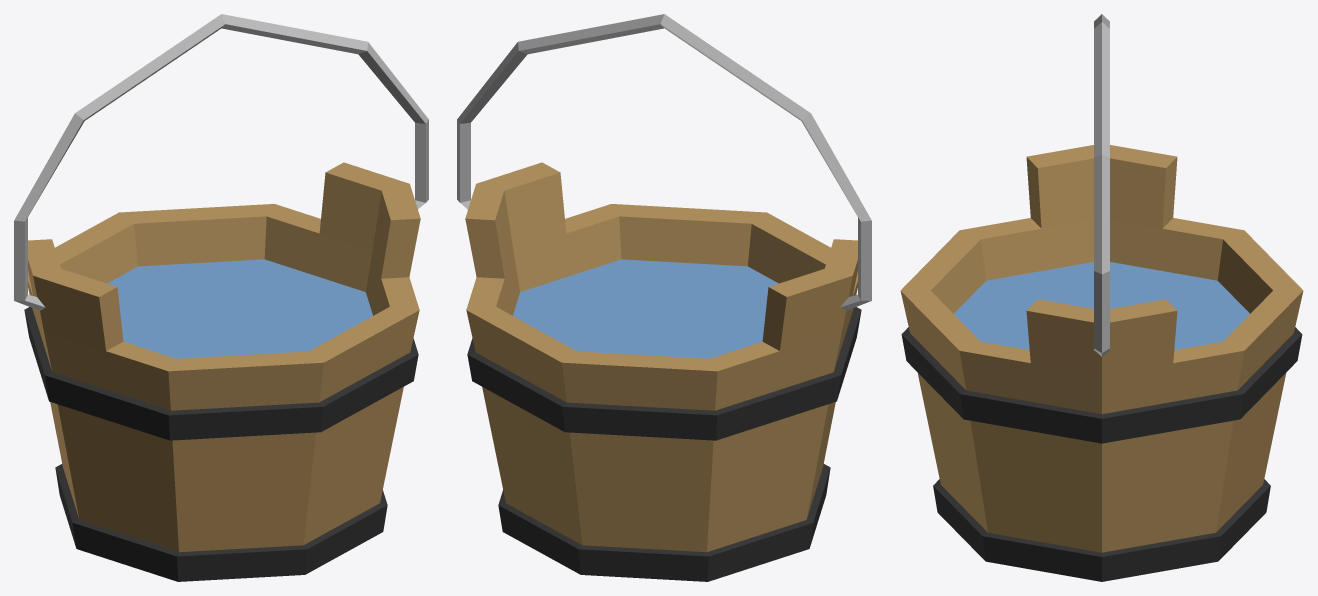
Rendered from Bucket1Water.fbx.
3 views of the same model, side by side, from view 1: azimuth 30°, elevation 25°; view 2: azimuth 150°, elevation 25°; view 3: azimuth 270°, elevation 25° (orthographic).
Visible parts, largest first — view 1: Cylinder, Cylinder.001; view 2: Cylinder, Cylinder.001; view 3: Cylinder, Cylinder.001.
Boxes of the visible parts, box(x1,y1,x2,y2) form: Cylinder: box(24, 162, 420, 581); Cylinder.001: box(14, 14, 428, 310); Cylinder: box(465, 162, 861, 581); Cylinder.001: box(457, 14, 871, 310); Cylinder: box(900, 145, 1303, 581); Cylinder.001: box(1094, 14, 1109, 356).
Size of the model in its own units: 0.69 by 0.7943 by 0.5913.
